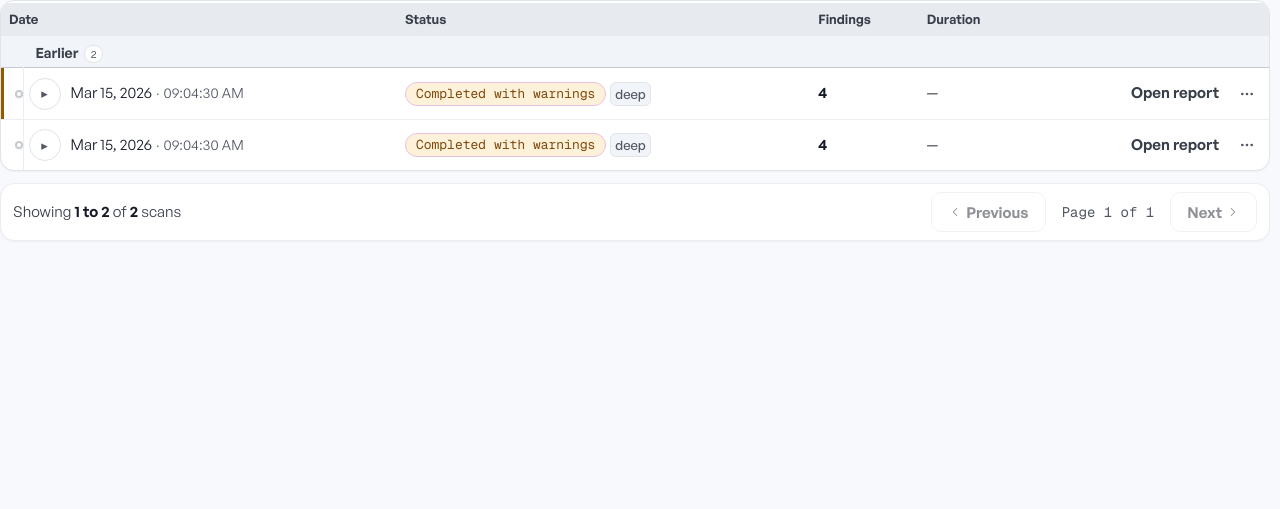
HistoryTable expandable rows › reveals a spanning detail strip with timestamps, profile, warning, and analyzer pills on demand
The image size is (1280, 509).
Click the 1st button with class "history-disclose": click(45, 94) [29,78,61,110]
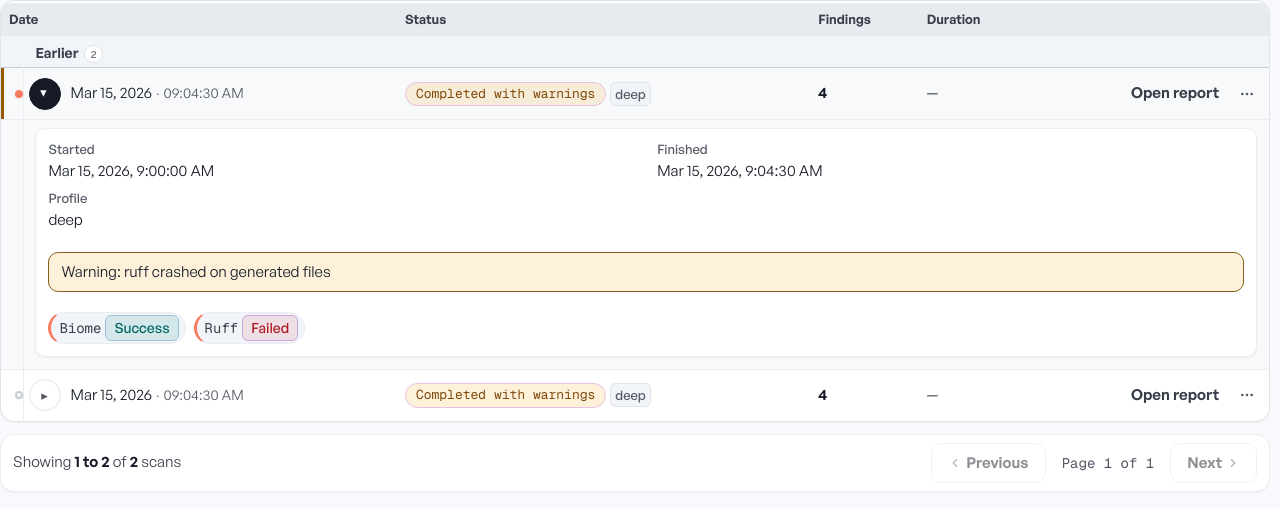
Check: the 1st button with class "history-disclose" is expanded, box [29,78,61,110]
Check: the number of rows with class "history-detail-row" is 1, box [1,120,1269,370]
Check: the element with class "history-detail" shows "Started", box [48,141,95,157]
